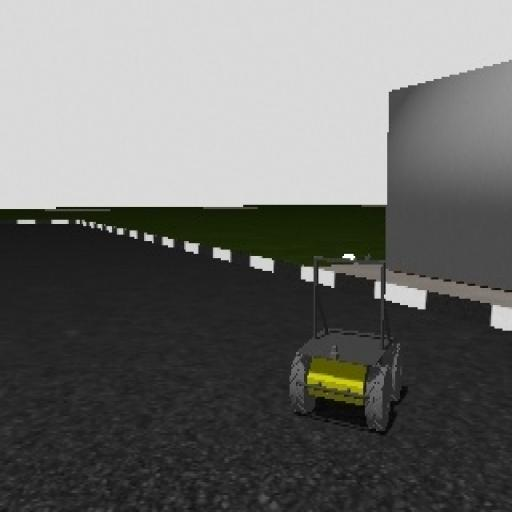huskya200: (272, 250, 411, 428)
